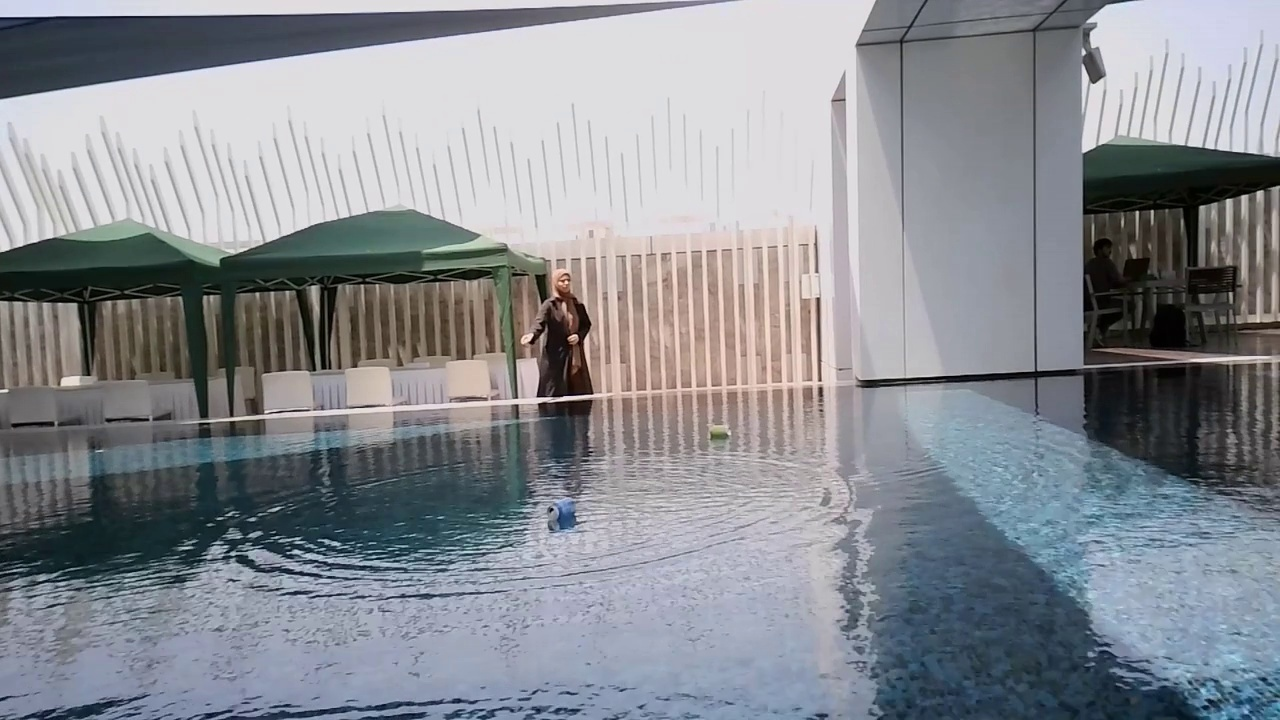debris: (544, 494, 579, 526), (705, 420, 734, 441)
